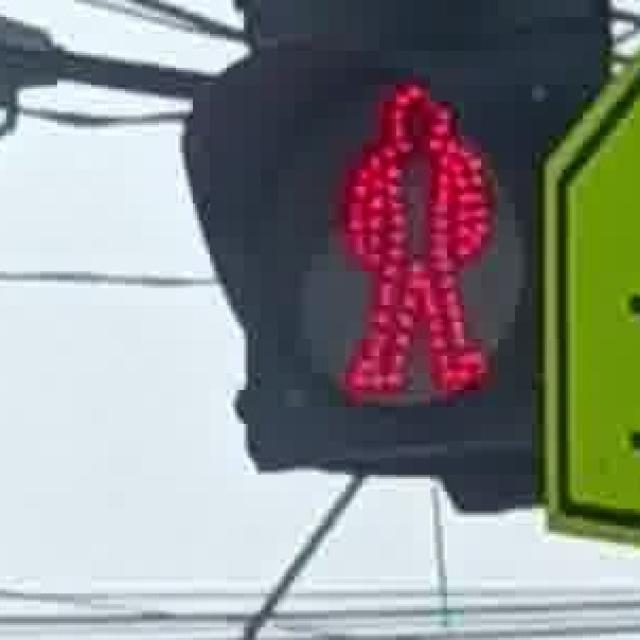red-crossing: (312, 51, 512, 417)
